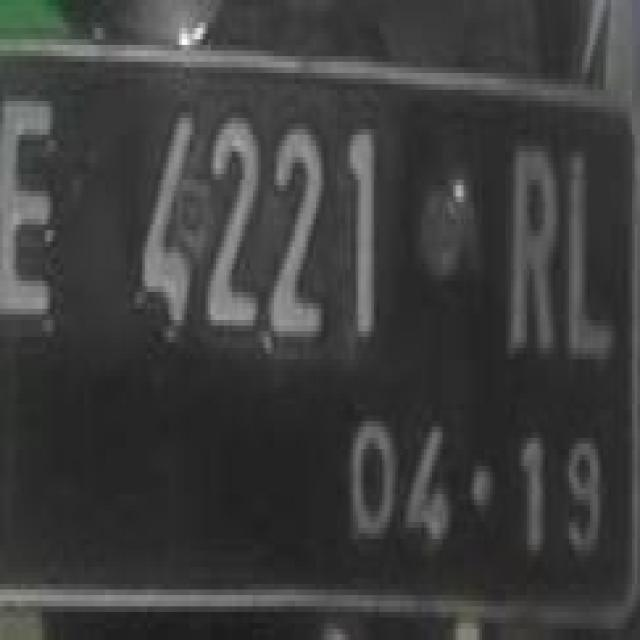1: (328, 95, 396, 348)
2: (259, 92, 328, 346), (202, 95, 260, 348)
4: (132, 85, 198, 342)
E: (0, 85, 60, 342)
L: (561, 120, 619, 384)
R: (503, 129, 561, 359)
